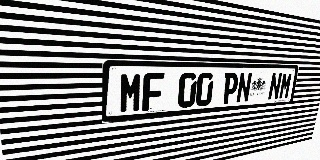0: (177, 73, 198, 108), (195, 73, 214, 107)
F: (142, 73, 165, 111)
M: (119, 73, 143, 113), (278, 73, 293, 100)
N: (236, 73, 253, 103), (267, 73, 283, 100)
P: (221, 73, 239, 104)
